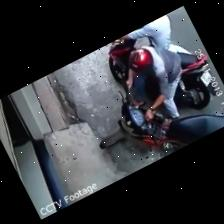person: (127, 46, 182, 120), (119, 15, 191, 54)
